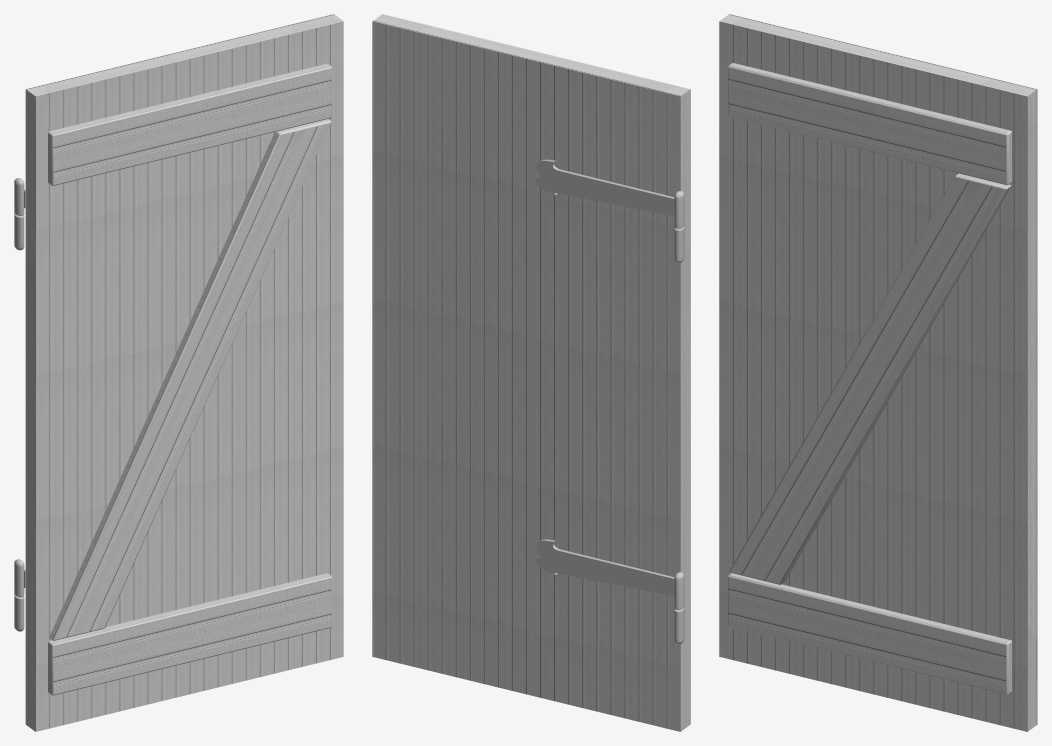
Rendered from french_shutter_right.fbx.
The picture shows the model from 3 angles, left to right: view 1: azimuth 30°, elevation 25°; view 2: azimuth 150°, elevation 25°; view 3: azimuth 330°, elevation 25°; orthographic projection.
Visible parts, largest first — view 1: Left_Component.004; view 2: Left_Component.004; view 3: Left_Component.004.
Boxes of the visible parts, x1,y1,x2,y2 form: Left_Component.004: (14,14,343,731); Left_Component.004: (372,14,690,731); Left_Component.004: (719,14,1037,731).
Size of the model in its own units: 0.0743 by 0.6291 by 1.21.
